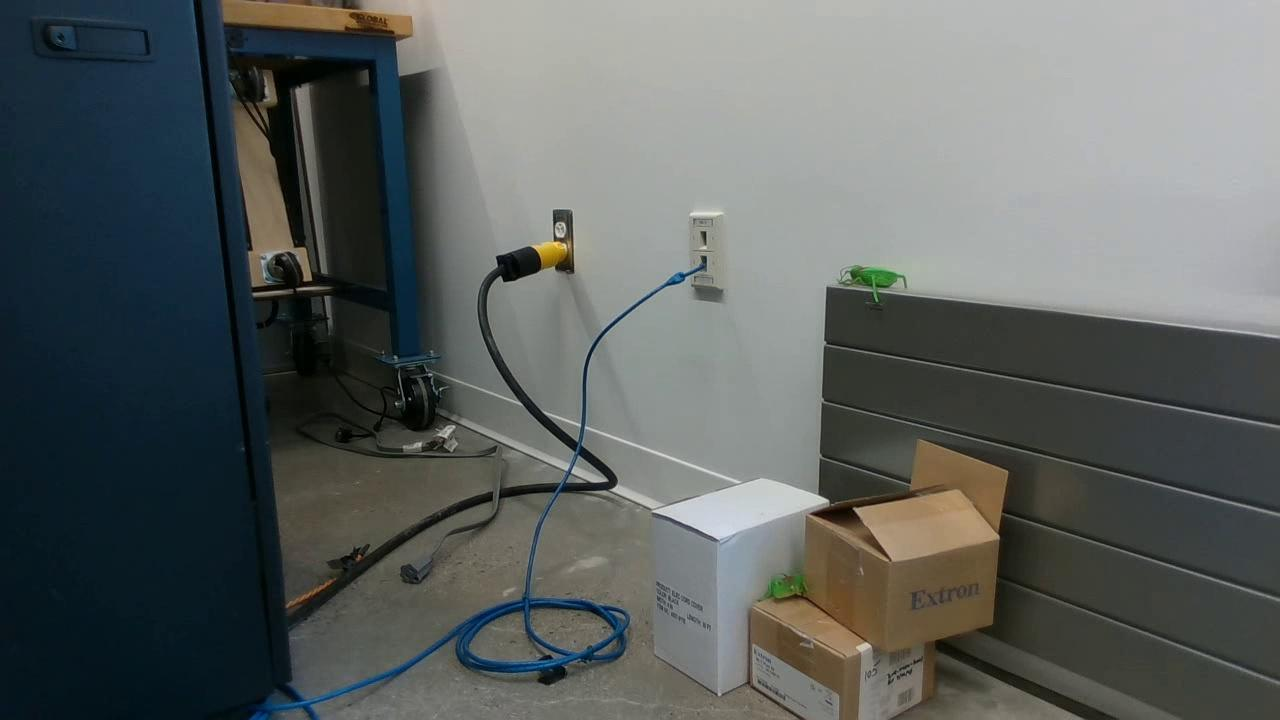grasshopper: (838, 261, 917, 305), (759, 569, 817, 607)
